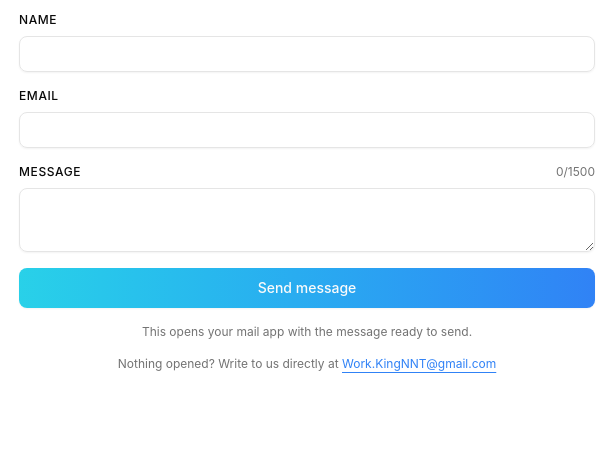
Test case: ContactForm › flags every invalid field at once and does not open the mail app
The width and height of the screenshot is (615, 462).
Type "A" into the field labelled "Name".
click(307, 54); type("A")  # box [19,36,595,72]
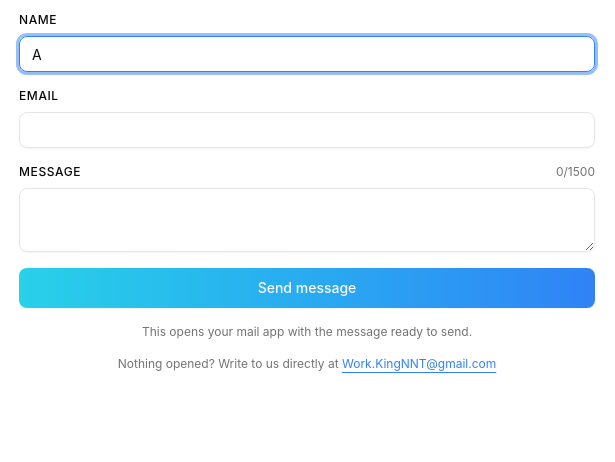
Type "nope" into the field labelled "Email".
click(307, 130); type("nope")  # box [19,112,595,148]
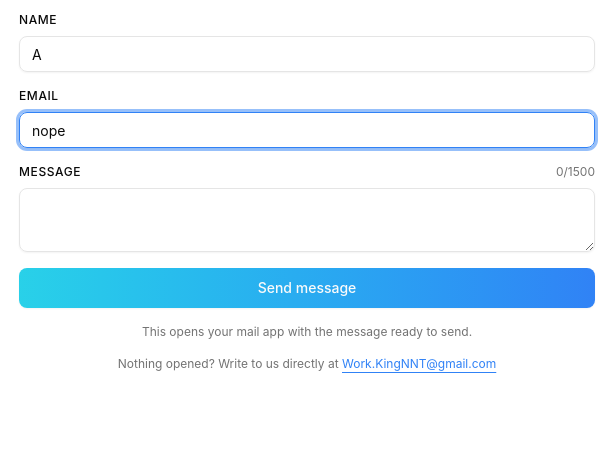
Type "hi" into the text box labelled "Message".
click(307, 220); type("hi")  # box [19,188,595,252]
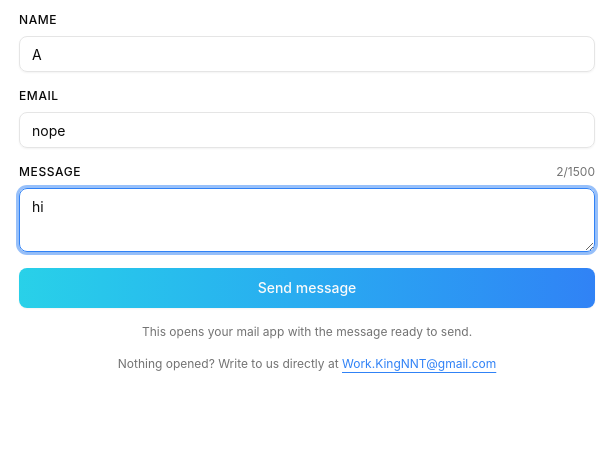
Click the button "Send message".
click(307, 288)  # box [19,268,595,308]
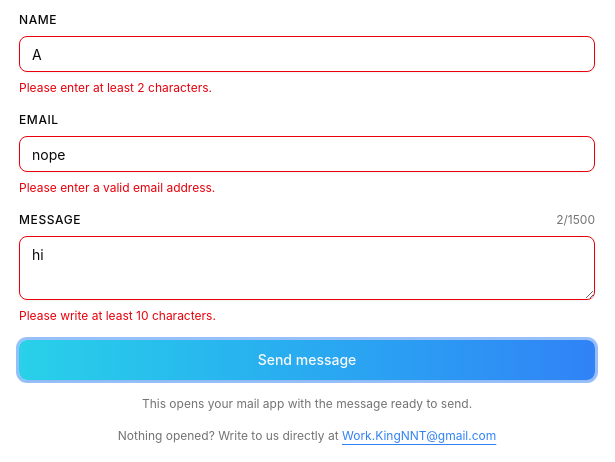
Expected: the text "Please enter at least 2 characters." is shown, [19,80,212,95]
Expected: the text "Please enter a valid email address." is shown, [19,180,215,195]
Expected: the text "Please write at least 10 characters." is shown, [19,308,216,323]
